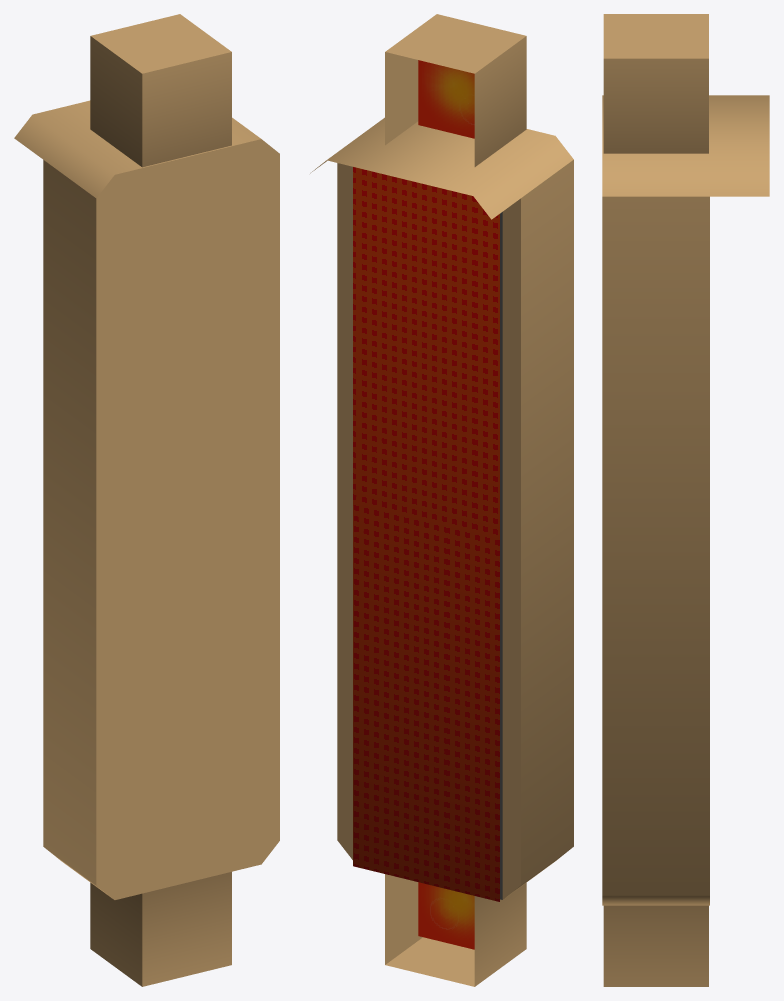
The model's file is CAUTION00.glb.
The picture shows the model from 3 angles, left to right: view 1: azimuth 30°, elevation 25°; view 2: azimuth 150°, elevation 25°; view 3: azimuth 270°, elevation 25°; orthographic projection.
Parts seen in each view (by area): view 1: Model; view 2: Model; view 3: Model.
Boxes of the visible parts, x1,y1,x2,y2 form: Model: (14,14,279,986); Model: (310,14,573,986); Model: (602,14,769,986).
Size of the model in its own units: 2.25 by 10.7 by 1.75.
6 materials, 5 textured.
